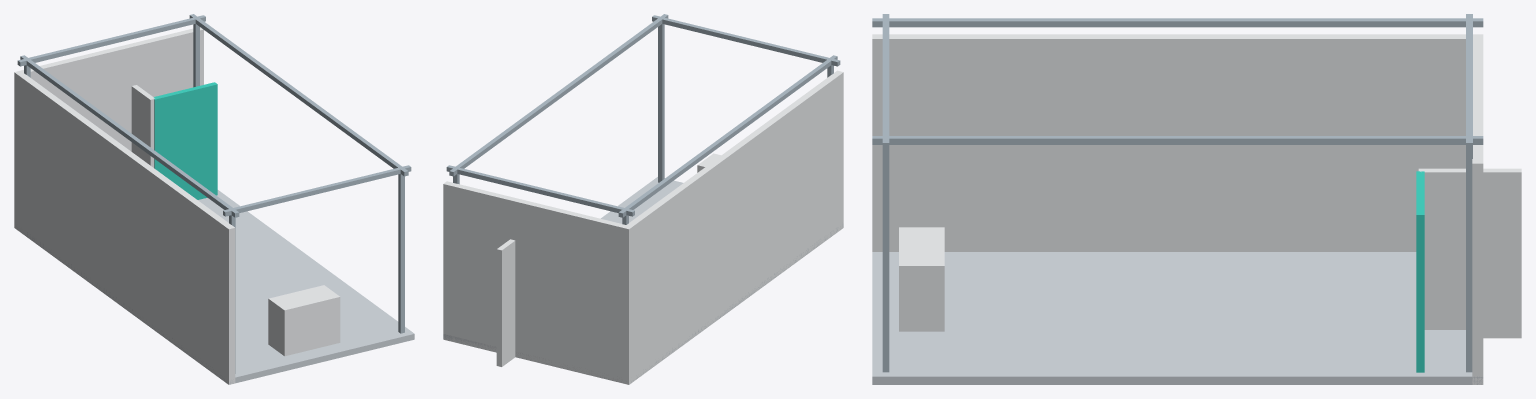
The picture shows the model from 3 angles, left to right: view 1: azimuth 30°, elevation 25°; view 2: azimuth 150°, elevation 25°; view 3: azimuth 270°, elevation 25°; orthographic projection. The views are drawn at different scales.
Parts seen in each view (by area): view 1: Exhibition Booth Concept; view 2: Exhibition Booth Concept; view 3: Exhibition Booth Concept.
Part boxes in pixels (x1,y1,x2,y2): Exhibition Booth Concept: (14, 14, 414, 384); Exhibition Booth Concept: (443, 14, 843, 384); Exhibition Booth Concept: (872, 14, 1521, 384).
Bounding box in the file's own units: 4 × 3.49 × 8.51.
